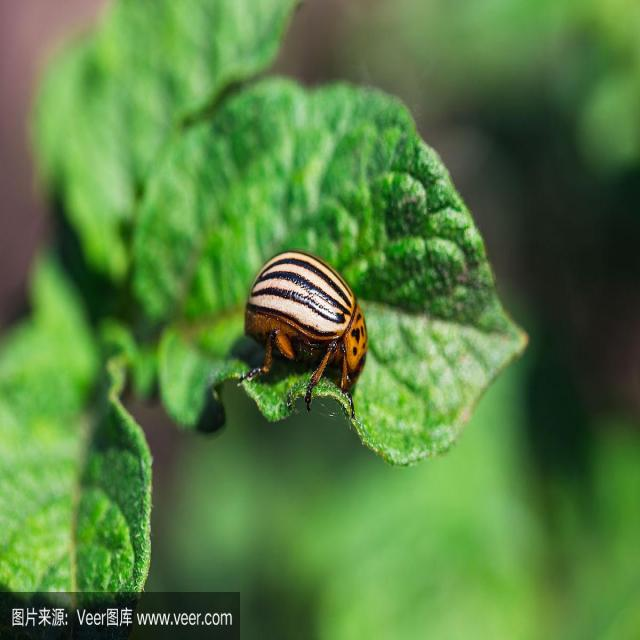ShuCaiHuaBanChong-Grown-: (238, 230, 399, 426)
